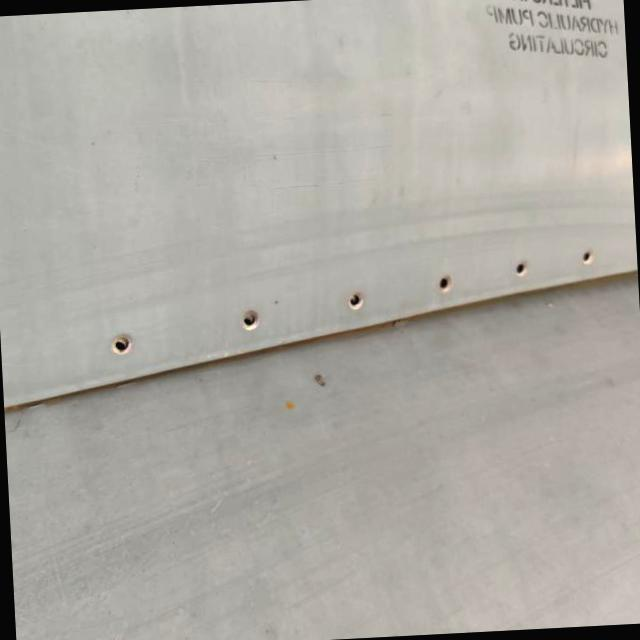Missing Fastener: (111, 328, 135, 357), (242, 306, 262, 331), (436, 272, 456, 294), (348, 290, 366, 312), (514, 260, 530, 276), (582, 248, 594, 264)
